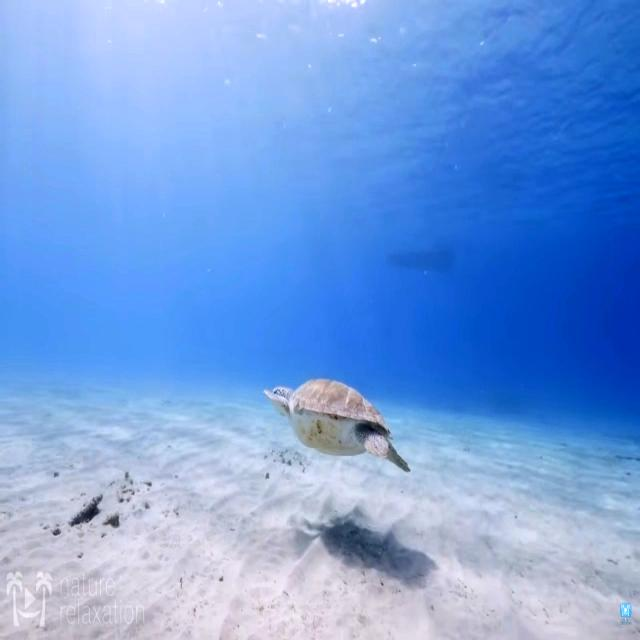Sea turtle: (264, 381, 414, 476)
